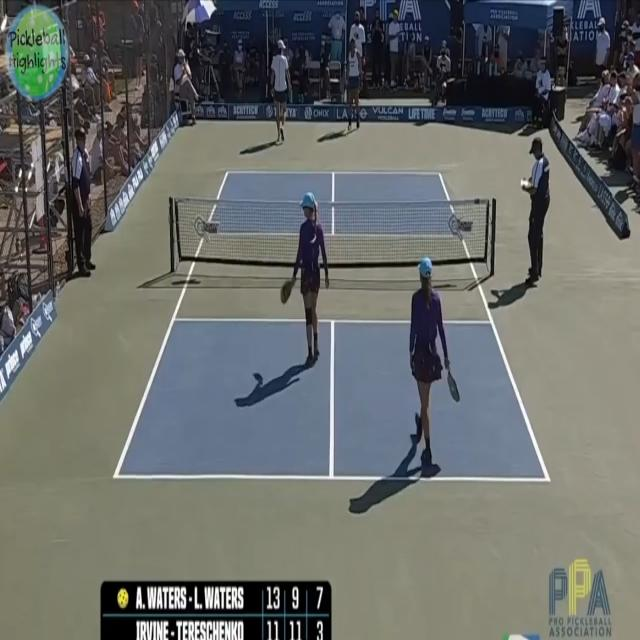Court: (117, 174, 549, 482)
